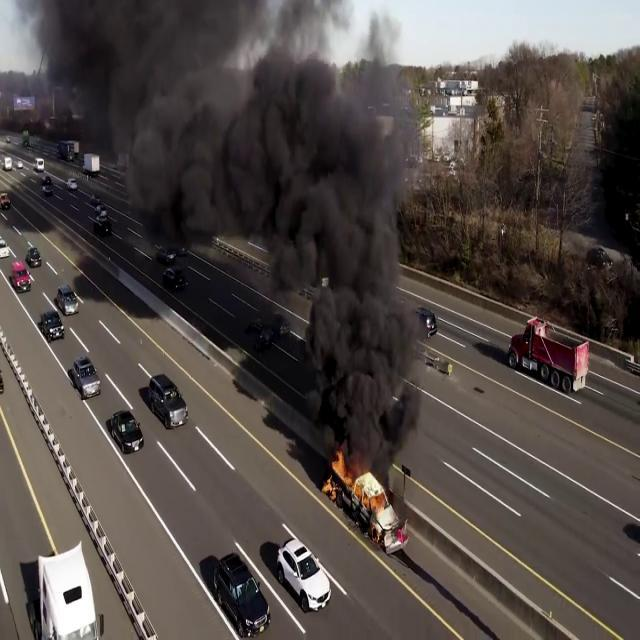Fire: (327, 444, 388, 524)
Smoke: (13, 1, 429, 434)
